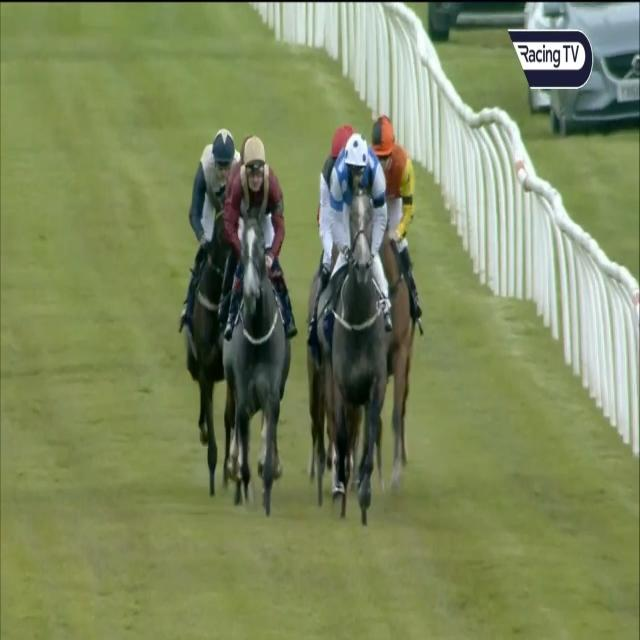horses-racing: (369, 112, 438, 496), (223, 120, 290, 515), (325, 125, 396, 492), (182, 131, 232, 471), (316, 108, 348, 449)
